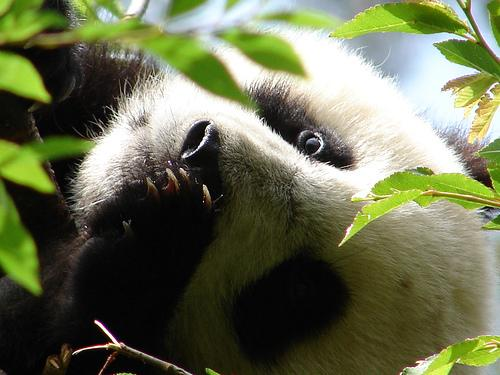panda: (0, 27, 497, 374)
